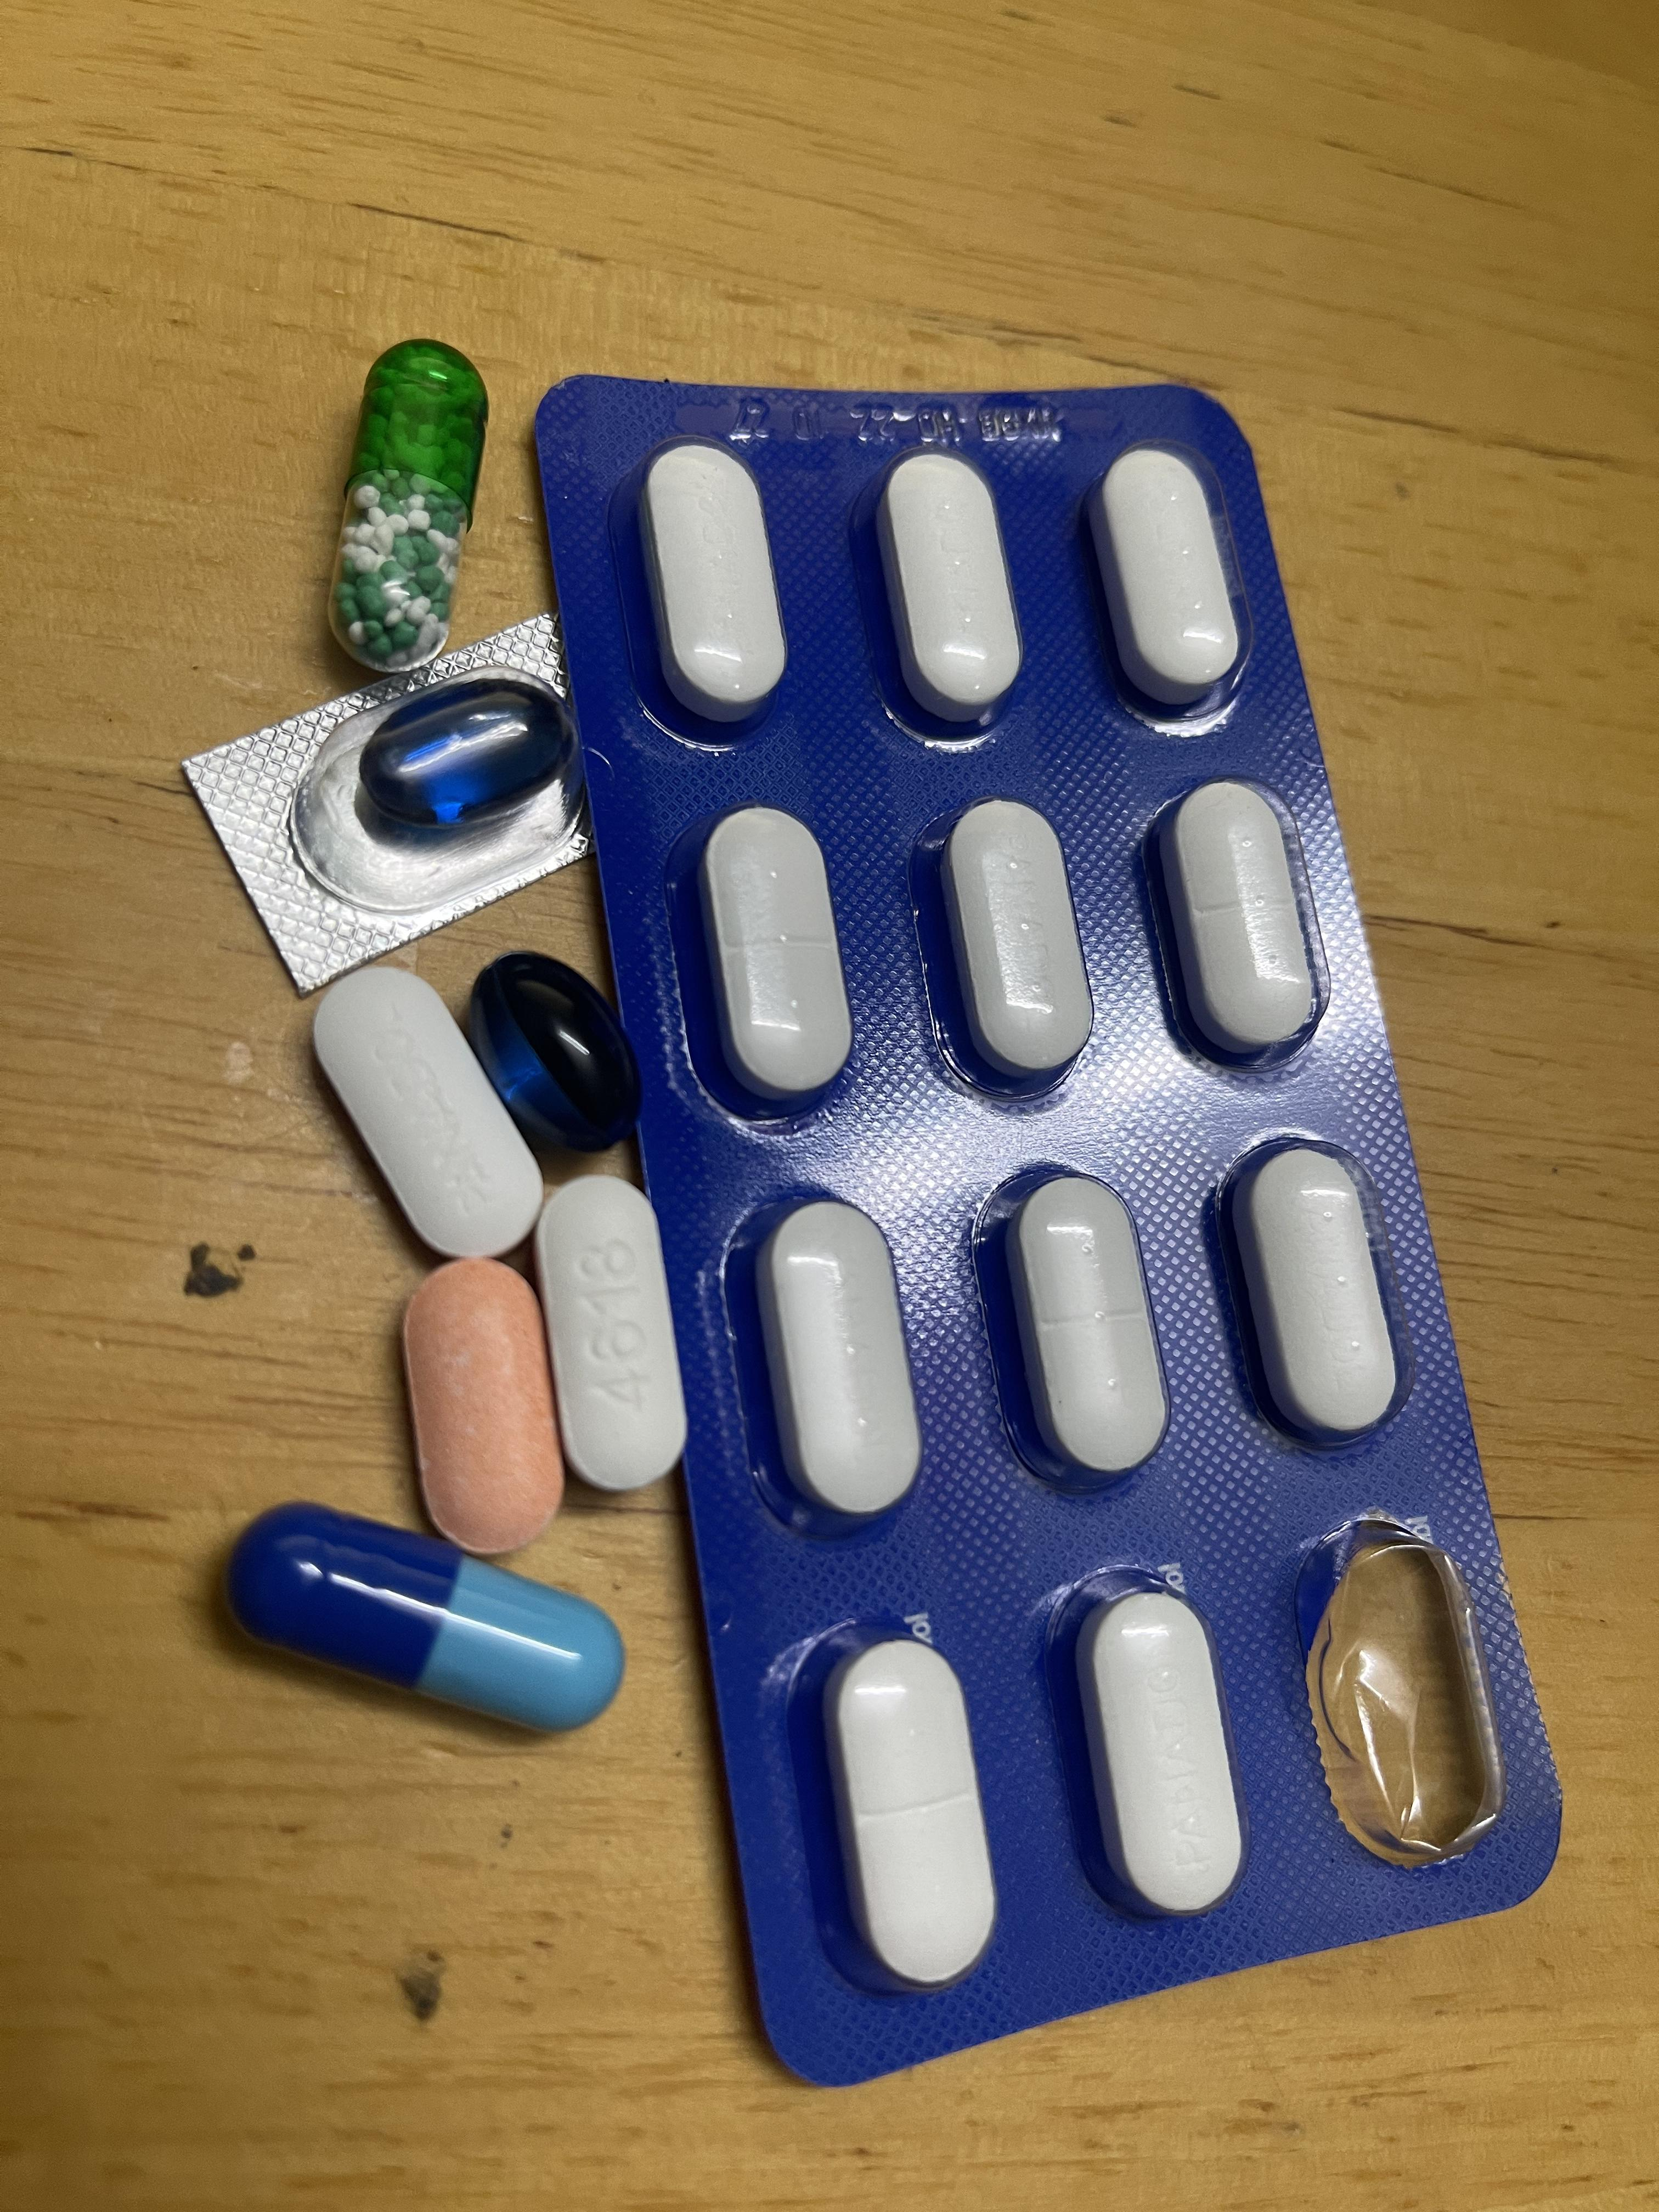Lincomyxin_500mg: (467, 951, 647, 1153), (354, 674, 575, 838)
Loratadine_10mg: (404, 1263, 558, 1538)
Paracetamol_350mg: (817, 1625, 1000, 1991), (992, 1165, 1173, 1494), (748, 1193, 924, 1529), (317, 972, 535, 1242), (1073, 1581, 1244, 1919), (1222, 1137, 1403, 1453), (1150, 777, 1326, 1082), (932, 798, 1098, 1106), (699, 810, 852, 1109), (1087, 441, 1246, 716), (638, 437, 789, 725), (873, 448, 1025, 726)
Paracetamol_500mg: (545, 1207, 685, 1491)
Paracetamol_650mg: (336, 347, 483, 660)
pill: (239, 1505, 617, 1728)
